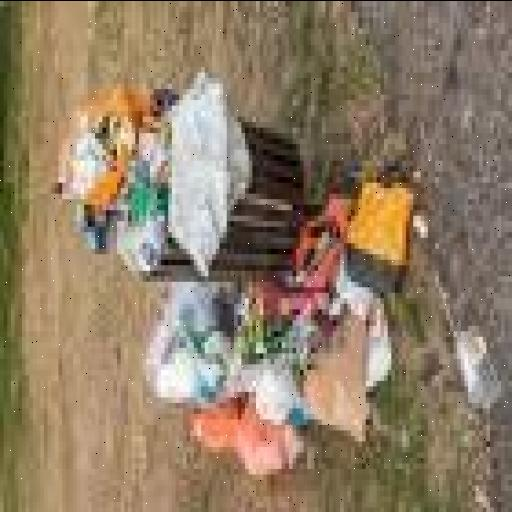poubelle_pleine: (48, 56, 316, 308)
